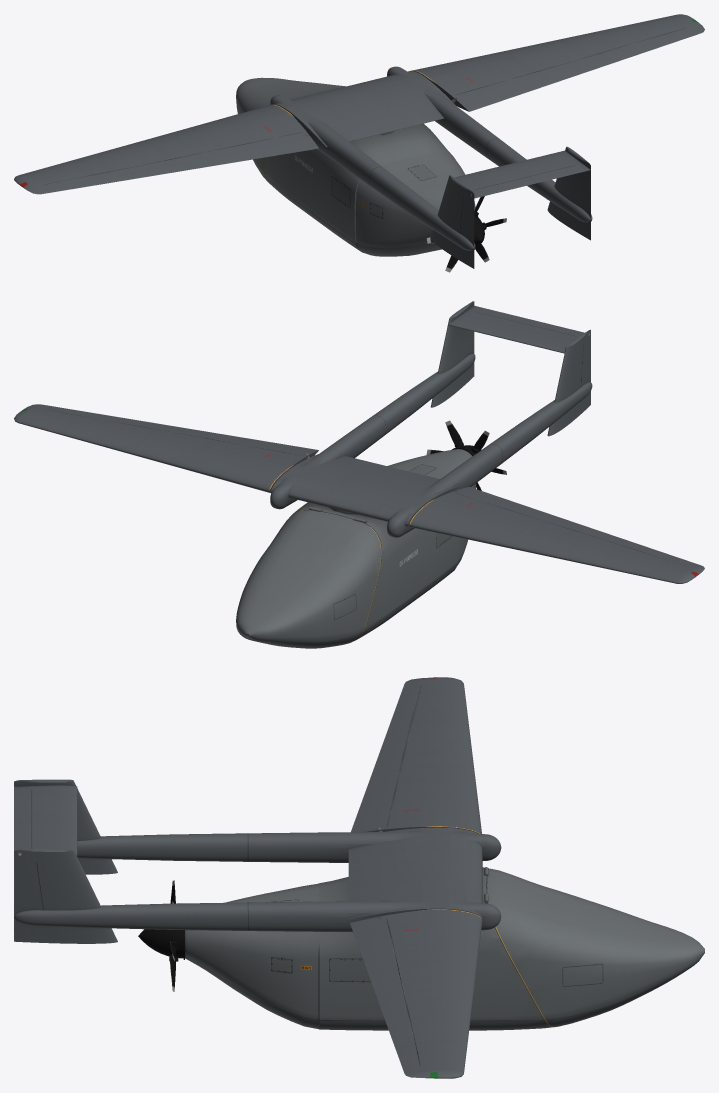
The model's file is Hamilcar.fbx.
The picture shows the model from 3 angles, top to bottom: view 1: azimuth 30°, elevation 25°; view 2: azimuth 150°, elevation 25°; view 3: azimuth 270°, elevation 25°; orthographic projection. The views are drawn at different scales.
Visible parts, largest first — view 1: Wing, Skin, WingOuterL, WingOuterR, Visor, Prop; view 2: Wing, Visor, WingOuterL, WingOuterR, Skin, Prop; view 3: Wing, Skin, Visor, WingOuterR, WingOuterL, Prop.
Boxes of the visible parts, bbox=[...] form: Wing: bbox=[270, 66, 592, 268]; Skin: bbox=[264, 123, 475, 256]; WingOuterL: bbox=[14, 104, 318, 194]; WingOuterR: bbox=[411, 14, 704, 111]; Visor: bbox=[236, 77, 345, 179]; Prop: bbox=[426, 196, 506, 272]; Wing: bbox=[270, 301, 592, 537]; Visor: bbox=[236, 506, 381, 648]; WingOuterL: bbox=[409, 486, 704, 583]; WingOuterR: bbox=[14, 404, 318, 492]; Skin: bbox=[289, 449, 476, 640]; Prop: bbox=[426, 420, 506, 490]; Wing: bbox=[14, 779, 501, 943]; Skin: bbox=[185, 867, 551, 1030]; Visor: bbox=[484, 867, 704, 1027]; WingOuterR: bbox=[350, 909, 482, 1078]; WingOuterL: bbox=[351, 677, 481, 833]; Prop: bbox=[138, 880, 184, 991].
Size of what is drawn, in the model's own units: 1272 by 295 by 929.
2 materials, 1 textured.
